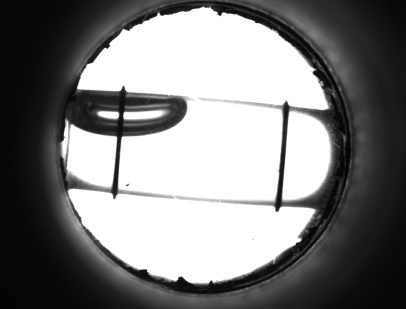line: (271, 119, 293, 193), (110, 146, 125, 180)
